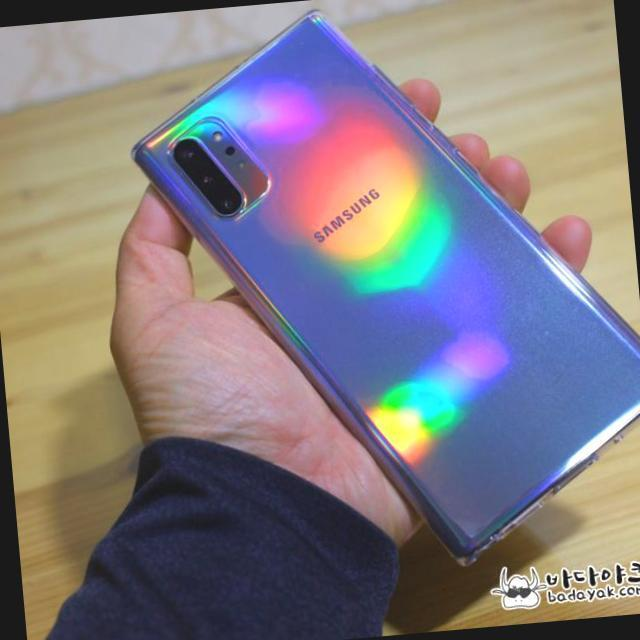lens: (161, 117, 291, 228)
phone: (132, 3, 640, 570)
